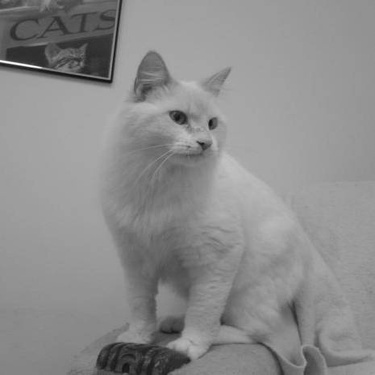cat: (99, 38, 365, 368)
